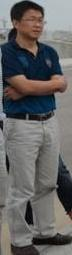boots: (11, 243, 39, 255), (1, 1, 1, 1)
